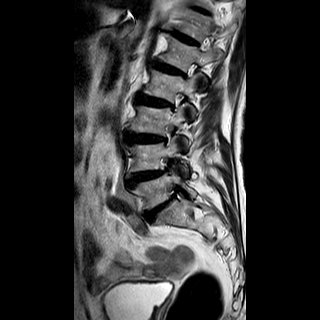RFS1: (153, 119, 178, 149), (176, 57, 202, 85), (165, 87, 188, 118)
